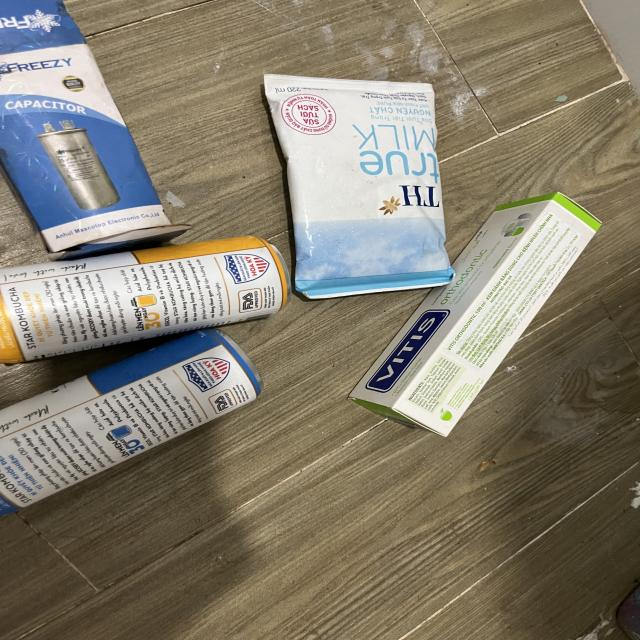can: (0, 330, 262, 514), (0, 237, 289, 363)
cardboard box: (349, 193, 603, 436), (0, 0, 187, 256)
packet: (260, 72, 452, 300)
